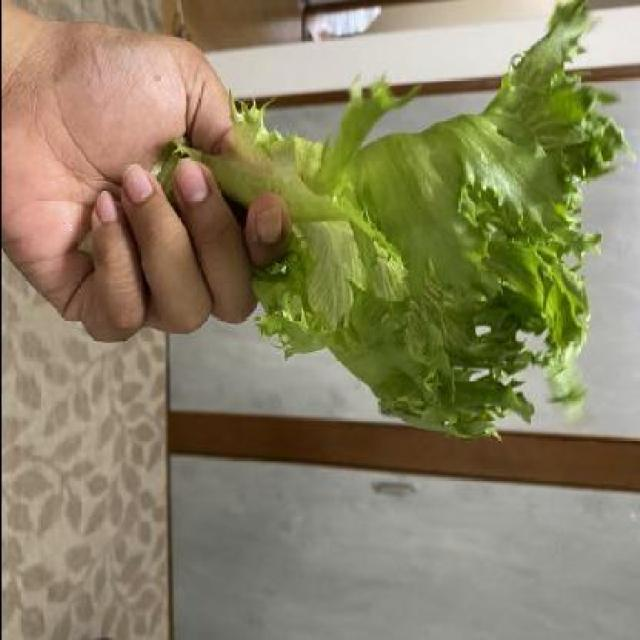Lettuce: (231, 3, 627, 440)
